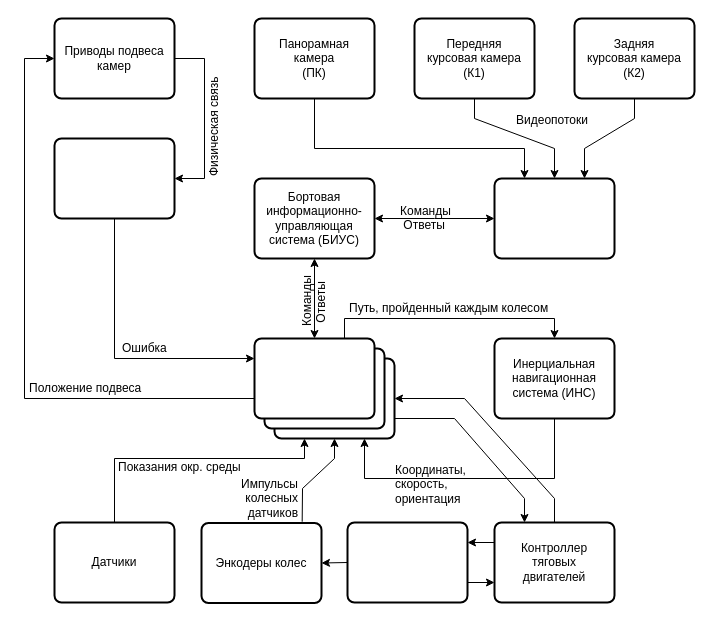
This 713x621 diagram has some shape labels left out. The shapes that lost their labels are listed below. From the top down, each one's centre as x and y in pixels, then its label:
the point at 114,178: Гиросистема подвеса
the point at 554,218: Система технического зрения (СТЗ)
the point at 314,378: Блок исполняющий универсальный (БИУ)
the point at 407,562: Тяговые двигатели
